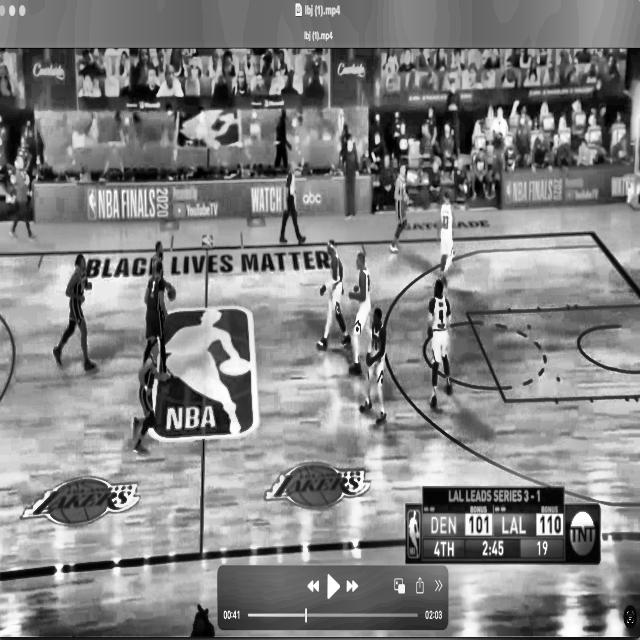Basketball: (165, 281, 175, 299)
